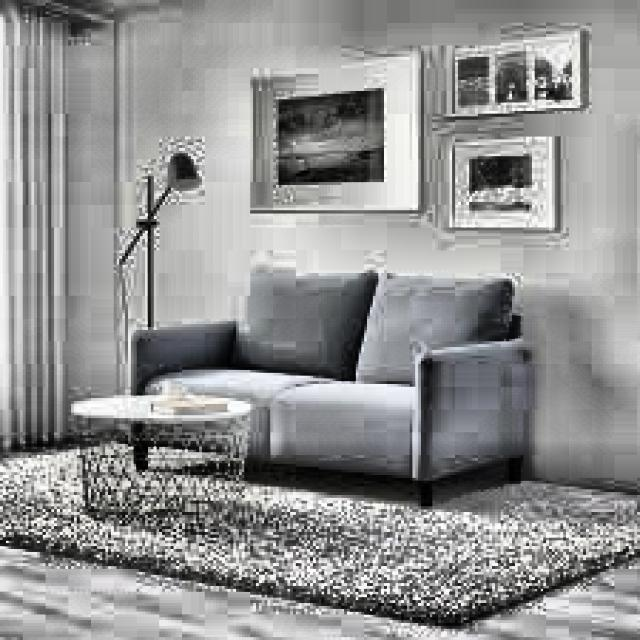sofa: (125, 273, 560, 495)
